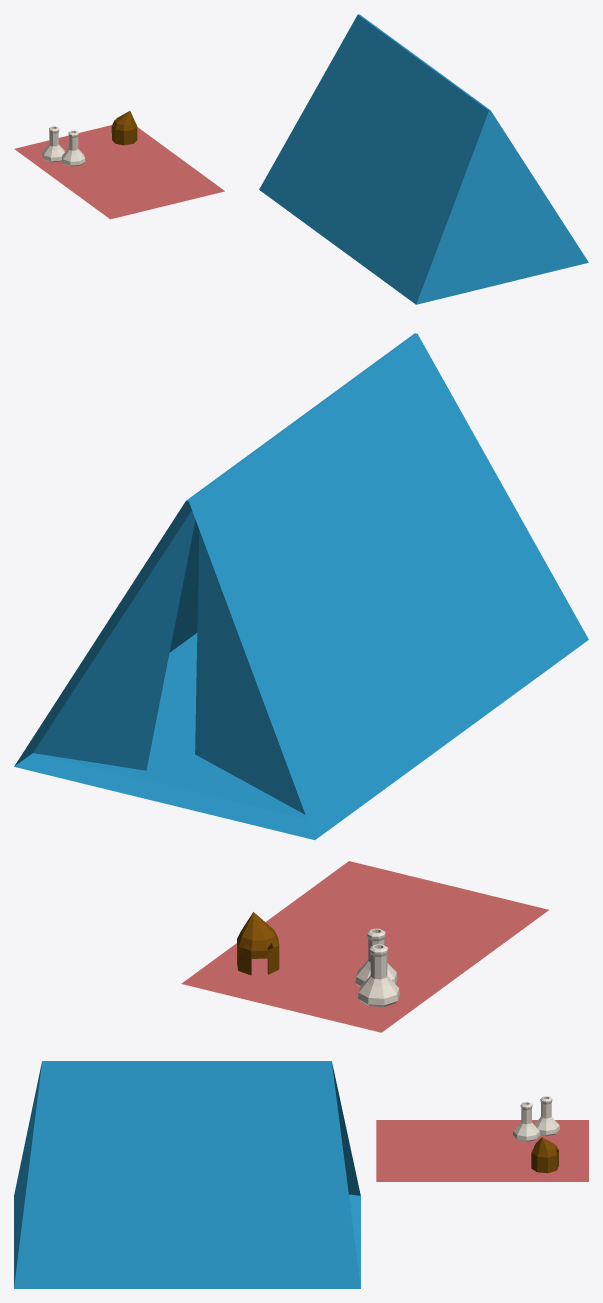
File: TiendaAlbombrafbx.fbx
3 renders of one model, top to bottom at view 1: azimuth 30°, elevation 25°; view 2: azimuth 150°, elevation 25°; view 3: azimuth 270°, elevation 25°, orthographic. The views are drawn at different scales.
Visible parts, largest first — view 1: Cube, Circle; view 2: Cube, Circle; view 3: Cube, Circle.
Part boxes in pixels (bbox=[...]): Cube: bbox=[259, 14, 588, 304]; Circle: bbox=[14, 111, 224, 219]; Cube: bbox=[14, 333, 588, 839]; Circle: bbox=[181, 861, 548, 1032]; Cube: bbox=[14, 1061, 360, 1288]; Circle: bbox=[376, 1096, 588, 1181].
Size of the model in its own units: 10.42 by 5.2 by 14.96.
